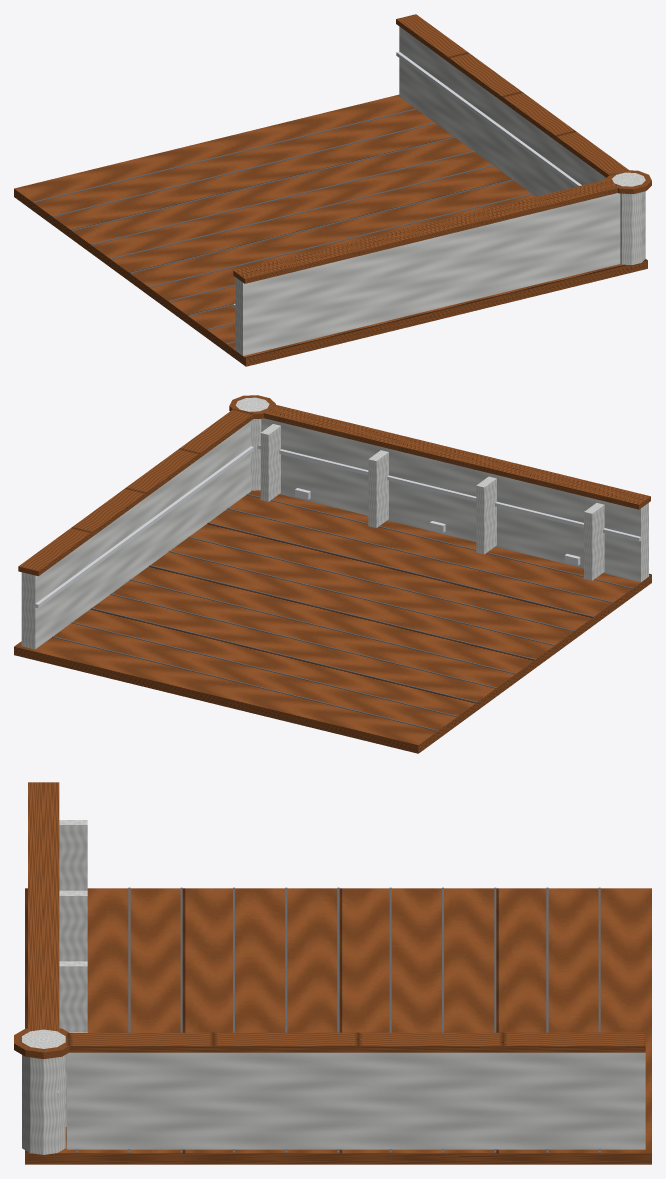
The model's file is cruise-ship-deck-and-lounge-cruise-ship-deck-and-loung-dc45af30__38411.glb.
The picture shows the model from 3 angles, top to bottom: view 1: azimuth 30°, elevation 25°; view 2: azimuth 150°, elevation 25°; view 3: azimuth 270°, elevation 25°; orthographic projection. The views are drawn at different scales.
Visible parts, largest first — view 1: cruise-ship-deck-and-lounge-deck-corner-section; view 2: cruise-ship-deck-and-lounge-deck-corner-section; view 3: cruise-ship-deck-and-lounge-deck-corner-section.
Part boxes in pixels (x1,y1,x2,y2): cruise-ship-deck-and-lounge-deck-corner-section: [14, 14, 651, 366]; cruise-ship-deck-and-lounge-deck-corner-section: [14, 395, 651, 753]; cruise-ship-deck-and-lounge-deck-corner-section: [14, 782, 651, 1164].
Bounding box in the file's own units: 6.12 × 1.24 × 6.11.
Materials: 4 (2 with a texture image).
